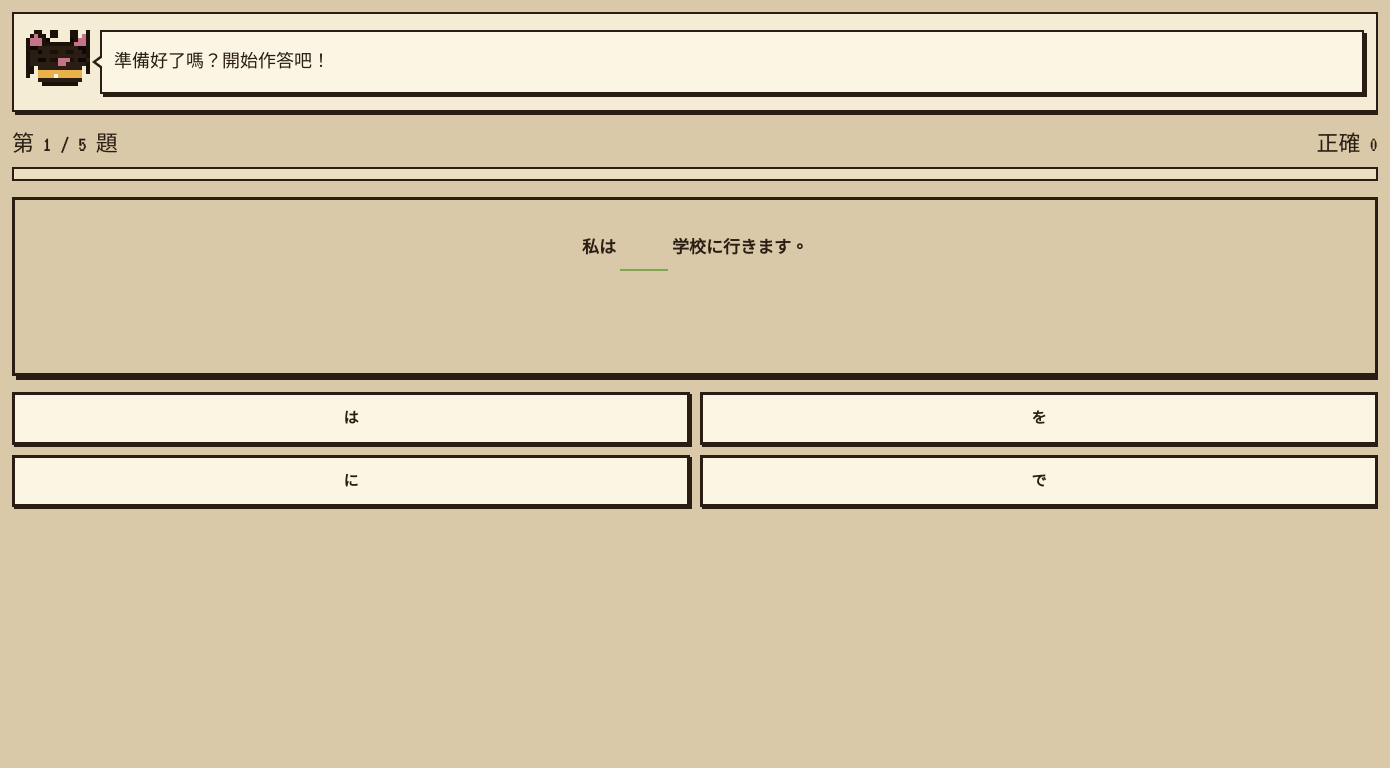
Test: GrammarQuiz › fills the blank with selected answer after picking
The width and height of the screenshot is (1390, 768).
Click the button "で" at (1039, 481), box [700, 455, 1378, 507]
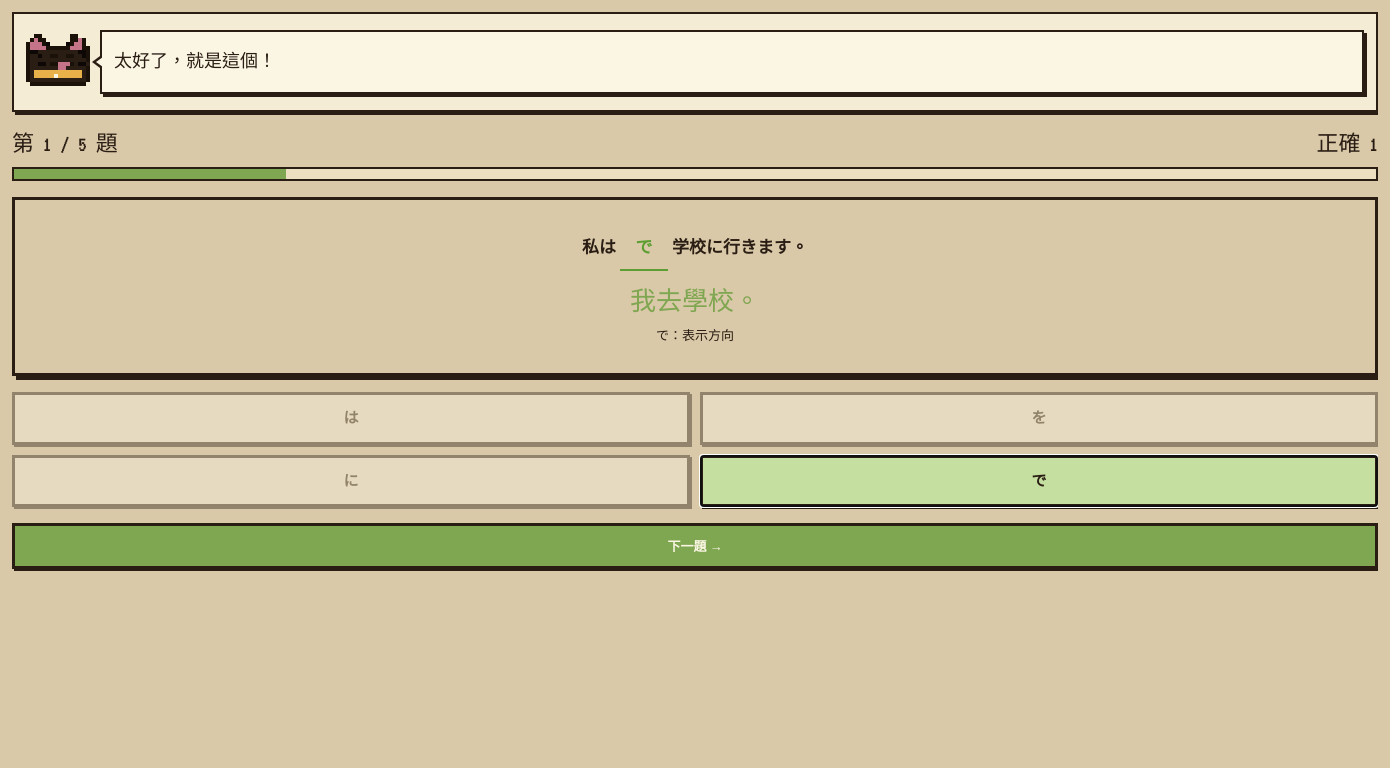
Expected: the text "で" next to "私は" is shown, [636, 238, 652, 257]
